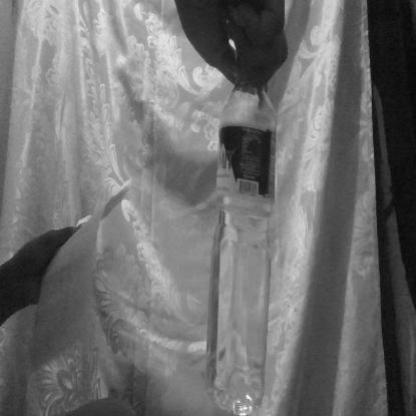Plastic Bottle: (199, 52, 287, 416)
